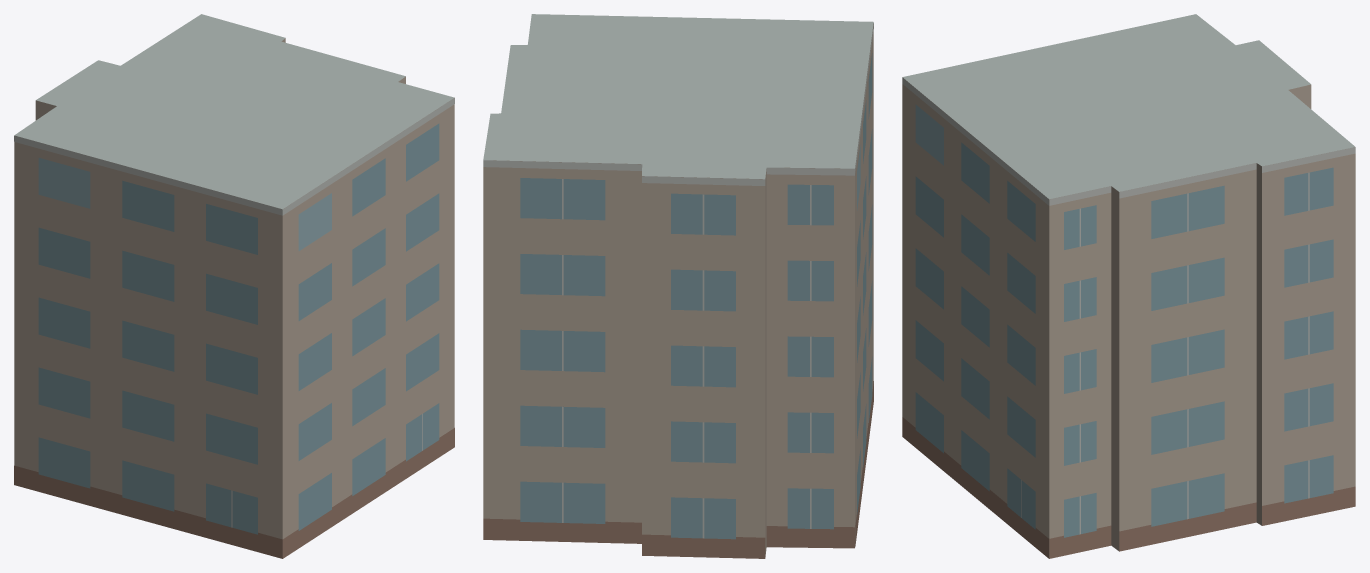
The model's file is survey-upis-32710980.glb.
3 renders of one model, left to right at view 1: azimuth 30°, elevation 25°; view 2: azimuth 150°, elevation 25°; view 3: azimuth 270°, elevation 25°, orthographic. The views are drawn at different scales.
Visible parts, largest first — view 1: survey-upis-32710980.tmp; view 2: survey-upis-32710980.tmp; view 3: survey-upis-32710980.tmp.
Part boxes in pixels (box(x1,y1,x2,y2)): survey-upis-32710980.tmp: box(14, 14, 454, 558); survey-upis-32710980.tmp: box(483, 14, 873, 558); survey-upis-32710980.tmp: box(902, 14, 1355, 558).
Size of the model in its own units: 14.71 by 13.3 by 15.21.
